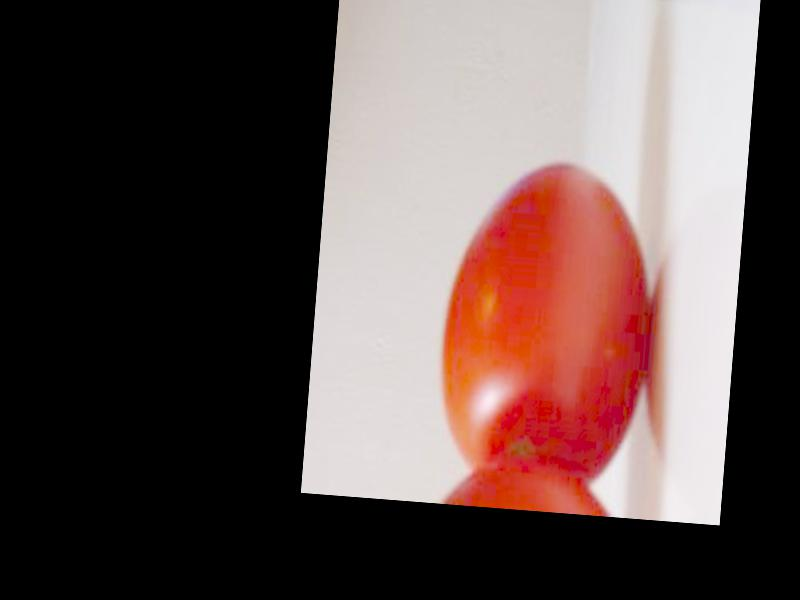Tomato: (433, 156, 663, 484)
